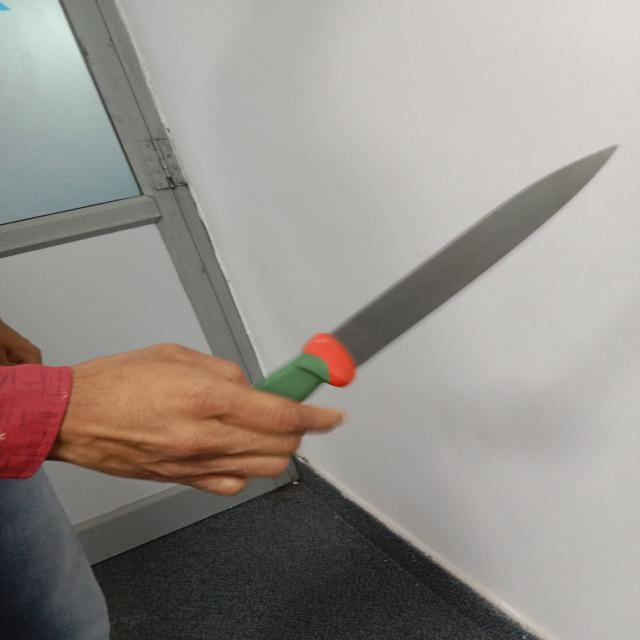Knife: (255, 145, 616, 401)
